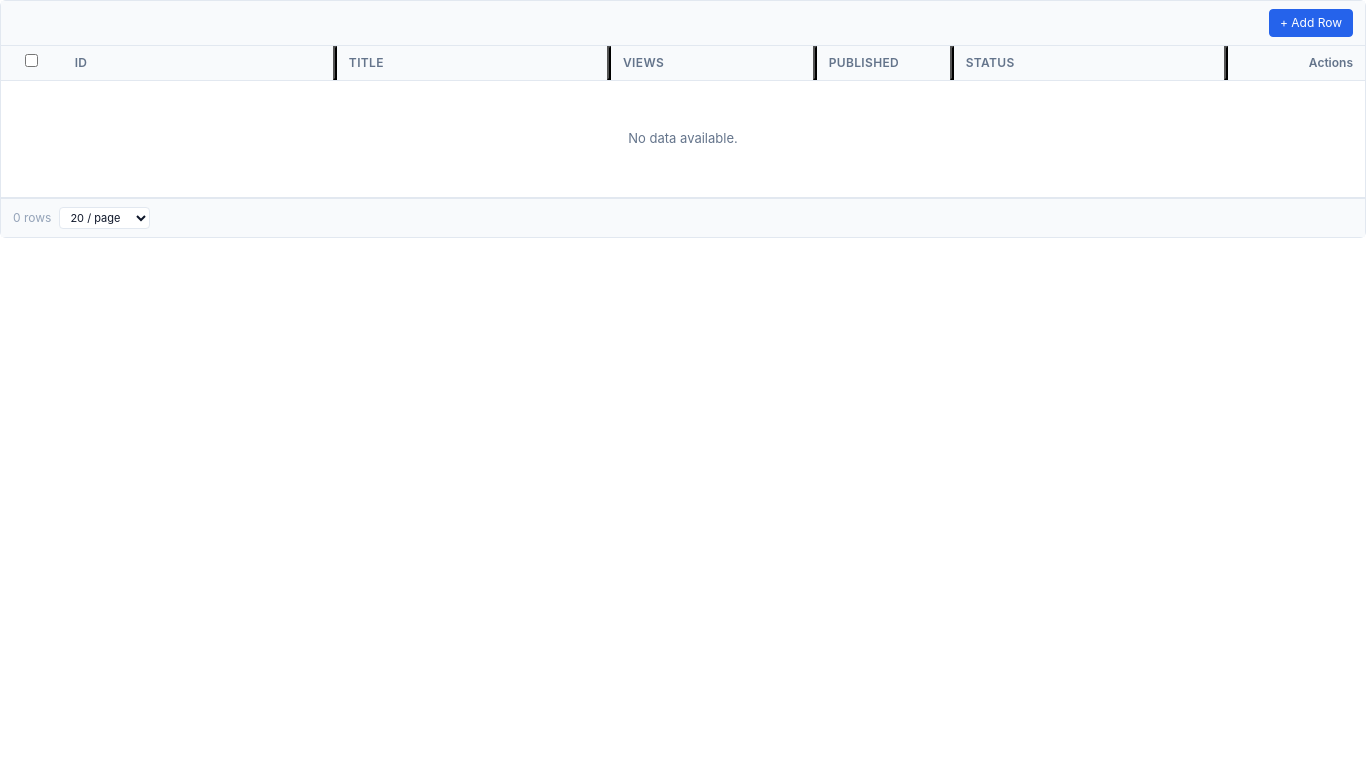
Scenario: DataGrid › opens the create drawer and submits parsed row data
Click the button "+ Add Row": (1311, 23) [1269, 9, 1353, 37]
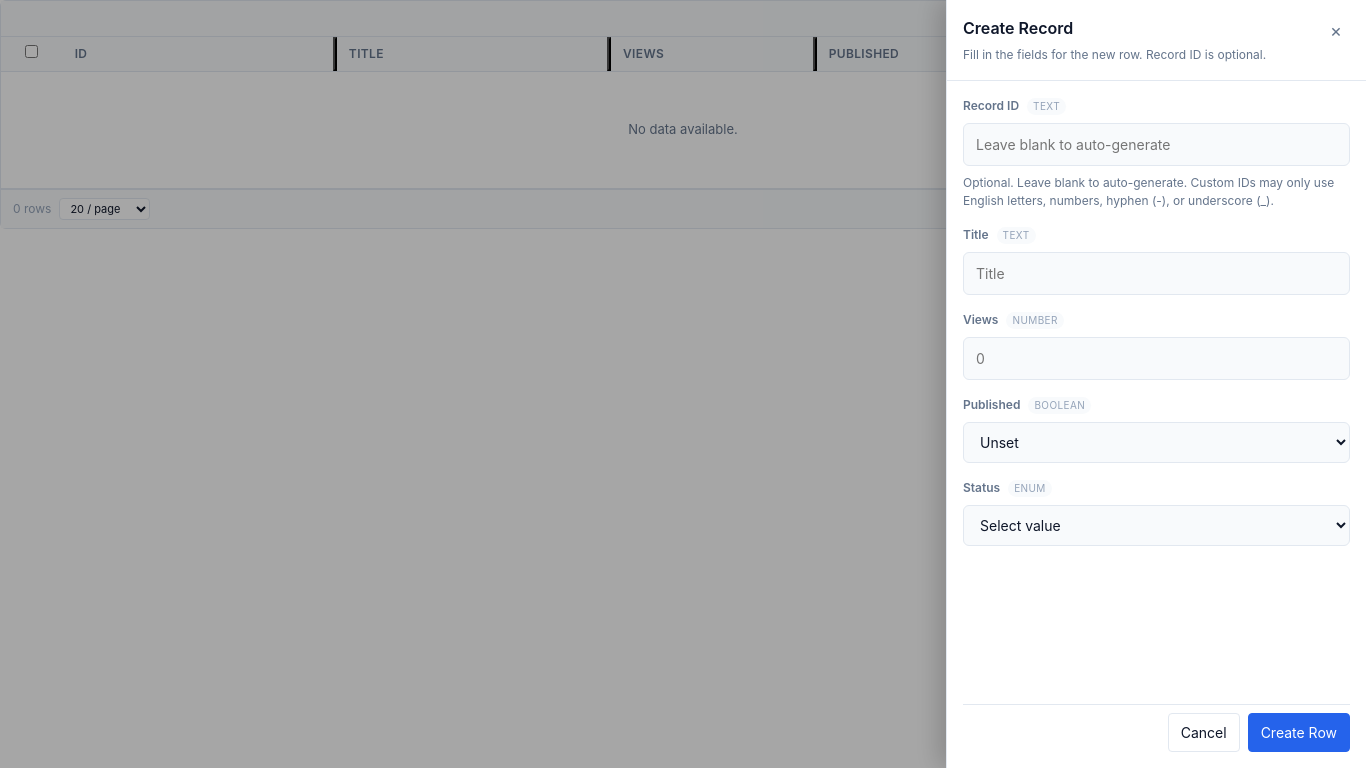
Result: the dialog "Create Record" is shown at [946, 0, 1365, 767]
Result: the field labelled "Record ID" is shown at [963, 123, 1350, 166]
In the field labelled "Title": (1156, 274) [963, 252, 1350, 295], type "Hello drawer"
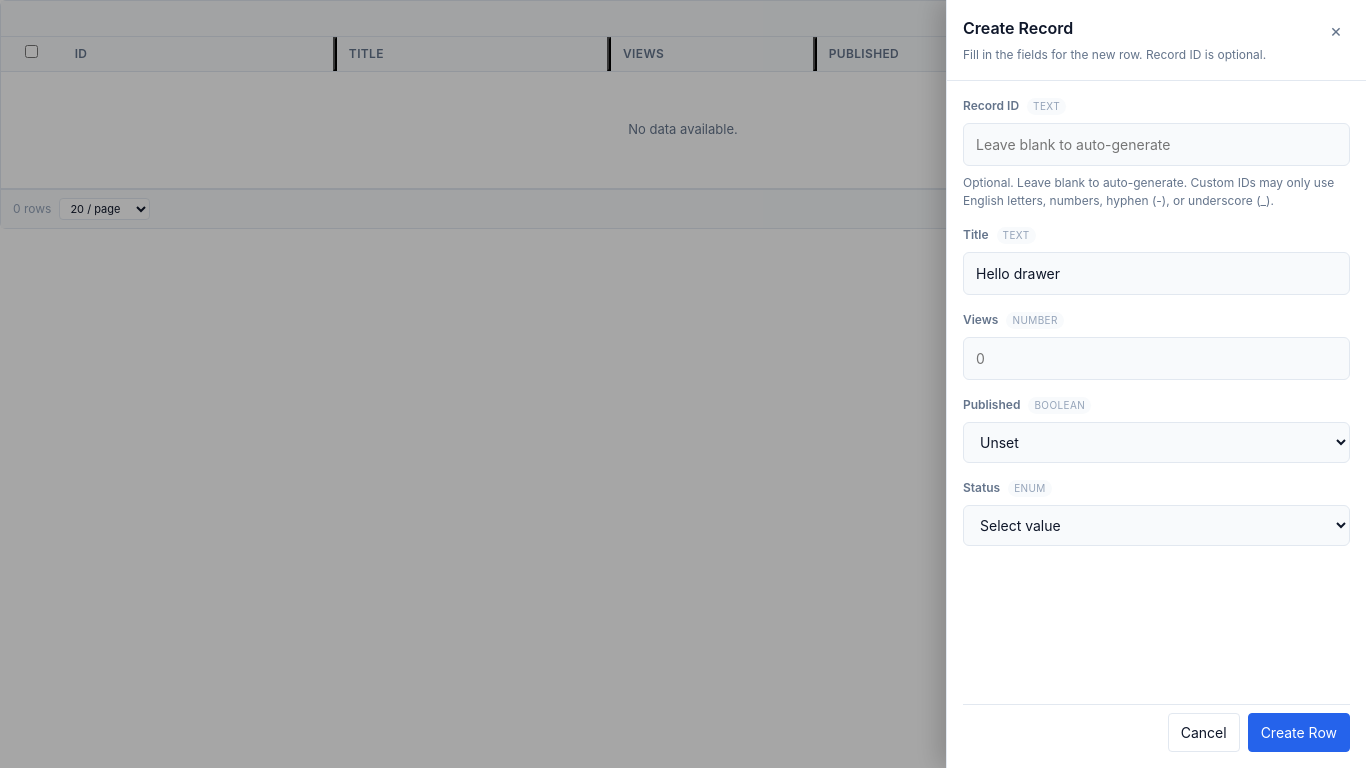
In the number field labelled "Views": (1156, 358) [963, 337, 1350, 380], type "3"
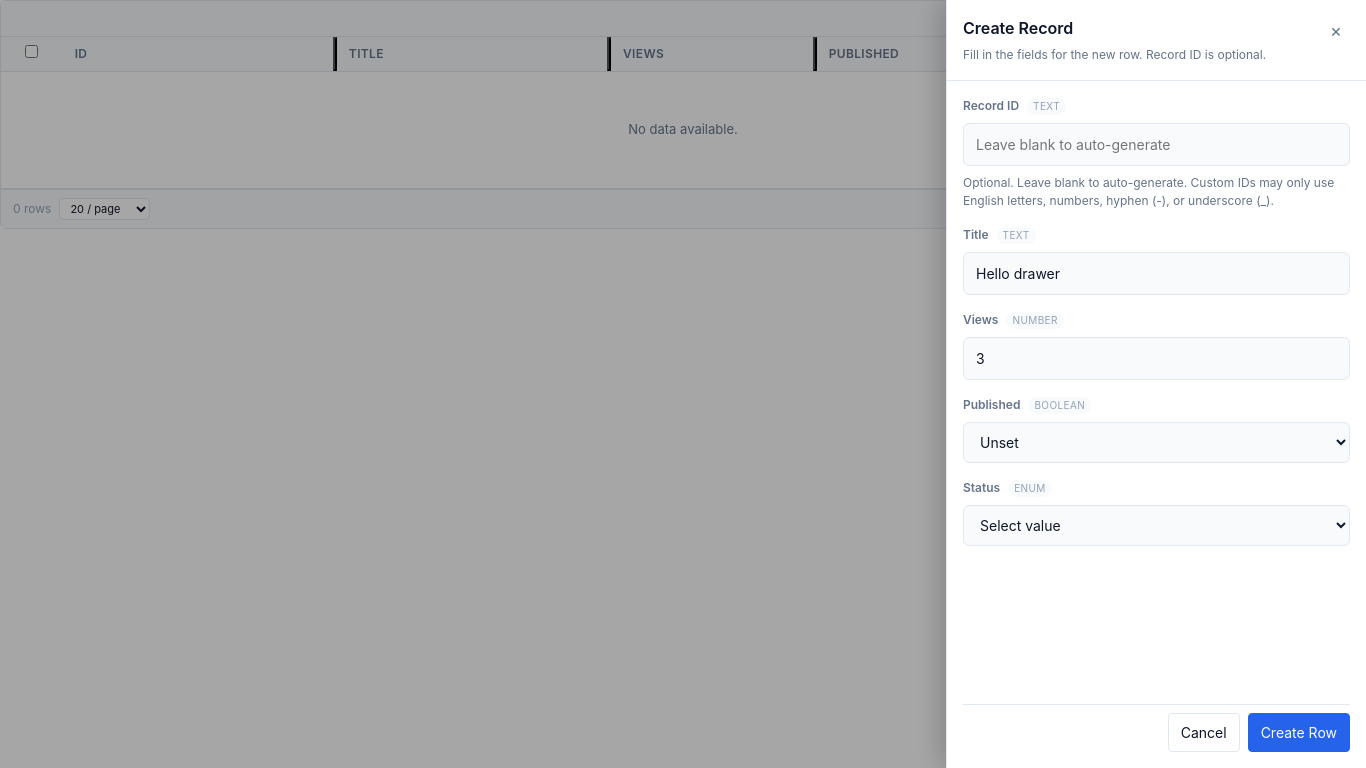
Select "true" in the dropdown labelled "Published": (1156, 442) [963, 422, 1350, 463]
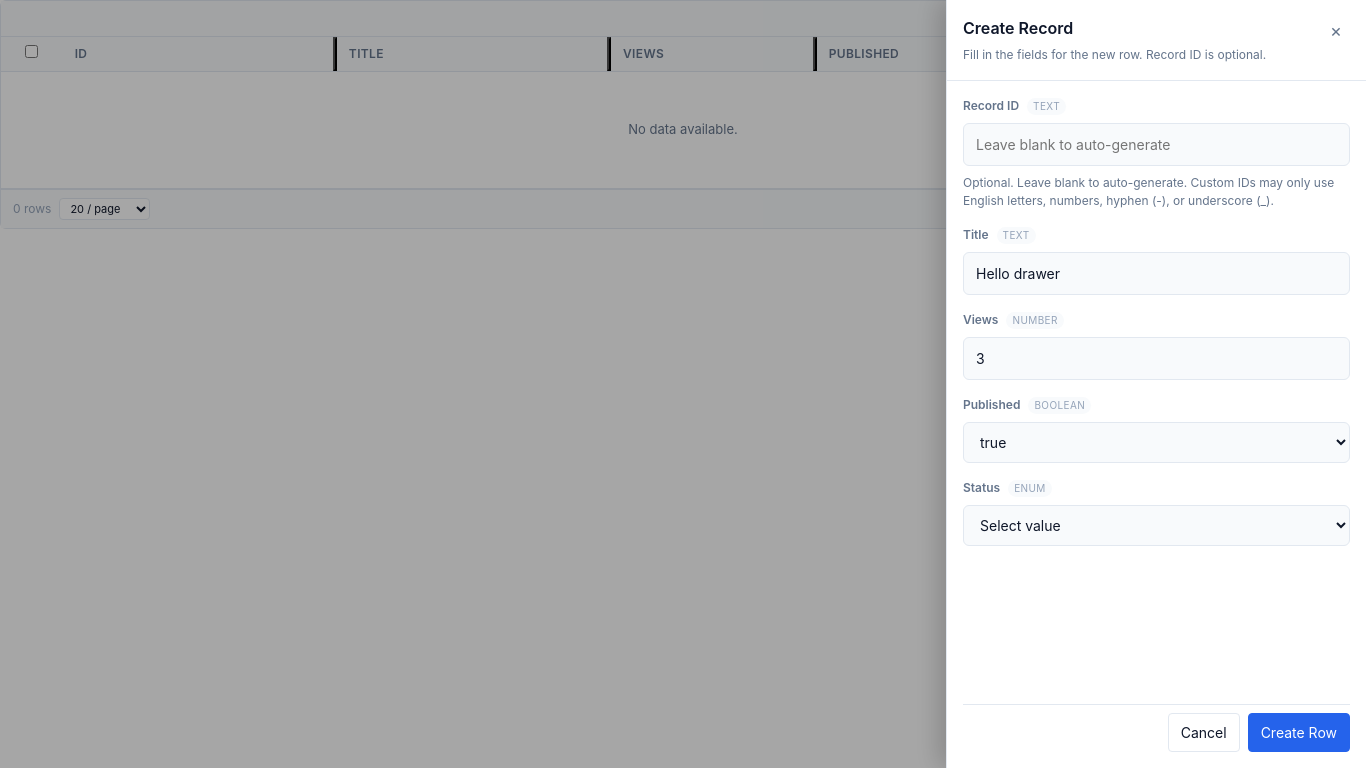
Select "draft" in the dropdown labelled "Status": (1156, 526) [963, 505, 1350, 546]
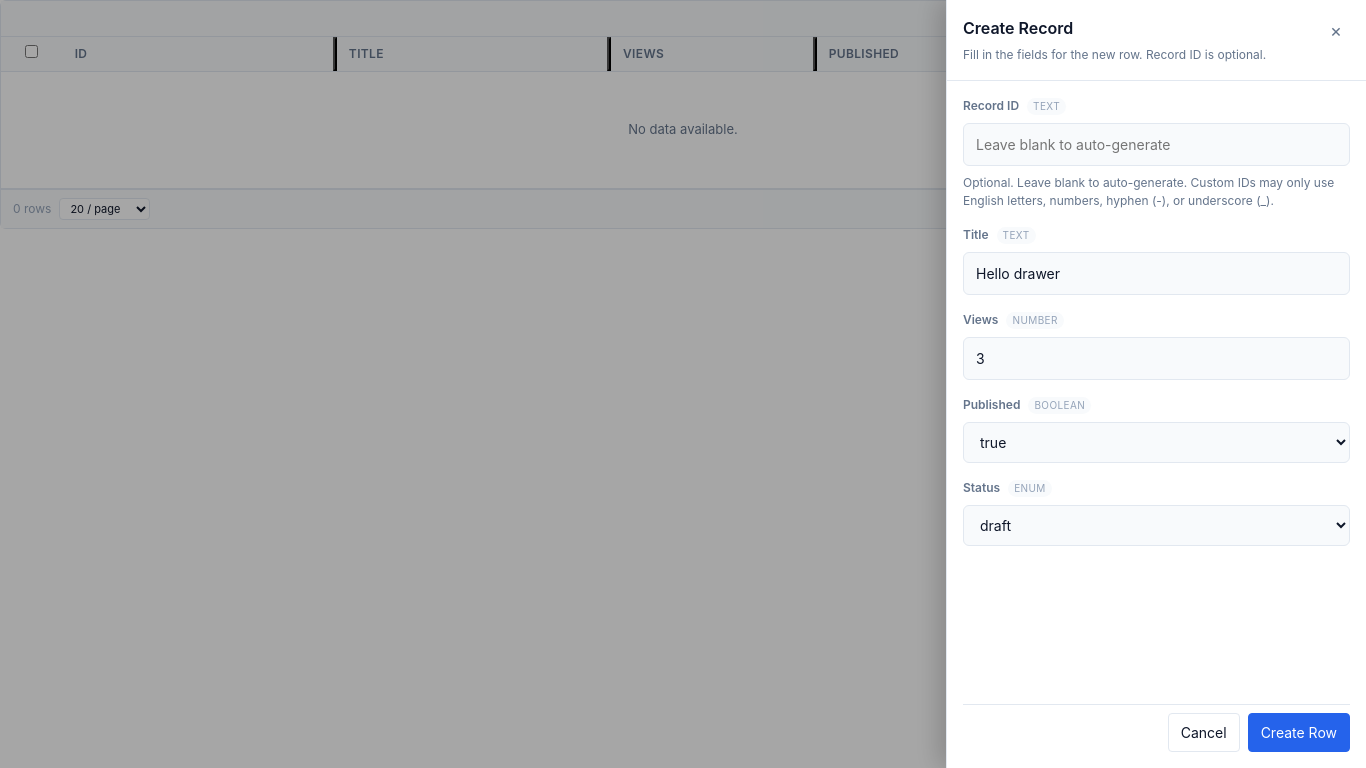
Click the button "Create Row": (1299, 732) [1248, 713, 1350, 752]
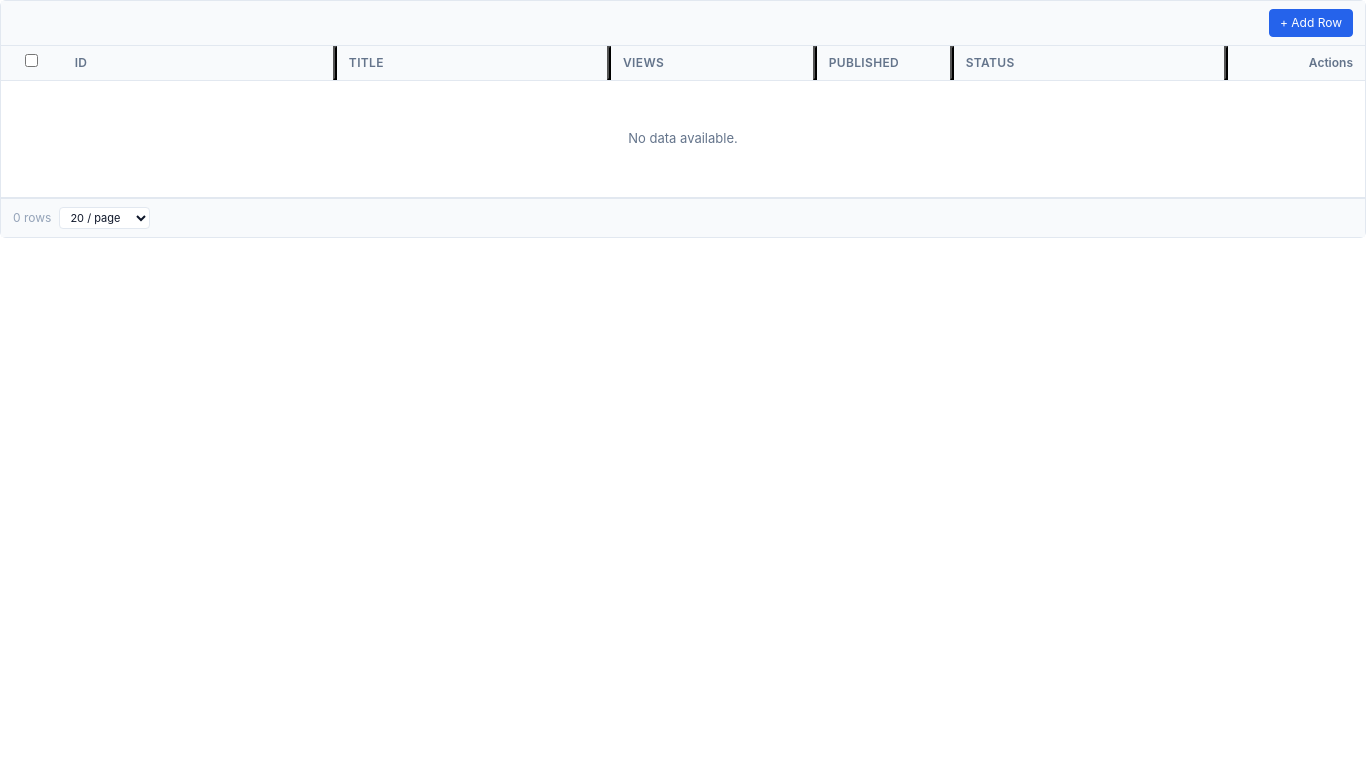
Result: the heading "Create Record" is gone
